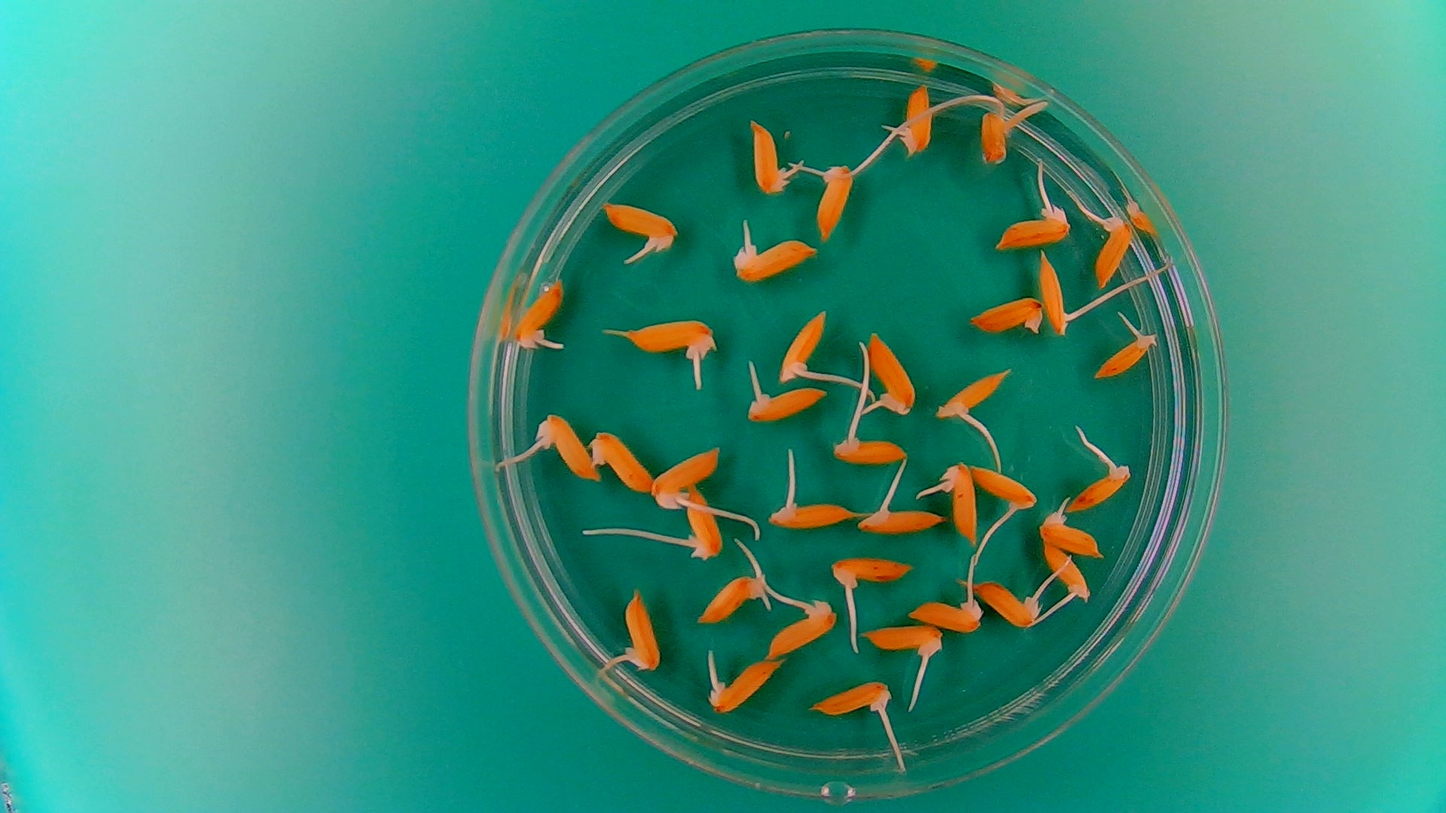no: (590, 428, 654, 494), (965, 293, 1044, 335)
yes: (648, 443, 722, 510), (537, 410, 599, 483), (704, 656, 782, 714), (628, 315, 720, 362), (776, 304, 831, 382), (933, 367, 1011, 421), (868, 329, 917, 413), (768, 602, 839, 656), (694, 569, 761, 626), (743, 380, 829, 422), (734, 236, 811, 282), (806, 679, 892, 720), (968, 464, 1038, 514), (938, 460, 981, 541), (605, 199, 679, 246), (813, 153, 852, 241), (511, 279, 560, 349), (624, 585, 661, 673), (830, 427, 911, 467), (998, 206, 1071, 250), (1038, 509, 1103, 558), (829, 553, 908, 592), (750, 117, 789, 196), (1042, 543, 1091, 605), (683, 487, 724, 560), (1091, 333, 1152, 381), (1066, 464, 1128, 510), (1093, 218, 1133, 289), (974, 582, 1037, 627), (1041, 251, 1073, 335), (870, 621, 944, 657), (861, 504, 944, 534), (902, 84, 935, 155), (906, 601, 979, 632), (773, 504, 856, 531), (979, 103, 1010, 166)
